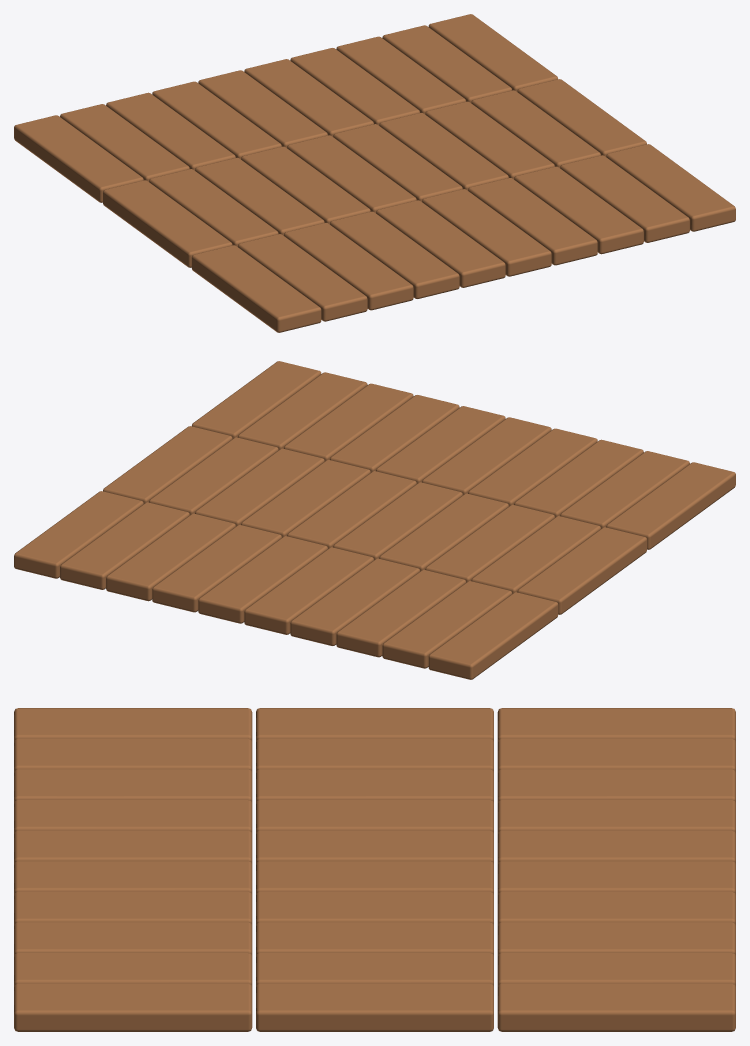
File: wp-sol-parquet.glb
3 views of the same model, one above another, from view 1: azimuth 30°, elevation 25°; view 2: azimuth 150°, elevation 25°; view 3: azimuth 270°, elevation 25° (orthographic). The views are drawn at different scales.
Parts seen in each view (by area): view 1: wp-sol-parquet; view 2: wp-sol-parquet; view 3: wp-sol-parquet.
Boxes of the visible parts, box(x1,y1,x2,y2) form: wp-sol-parquet: box(14, 14, 735, 332); wp-sol-parquet: box(14, 361, 735, 679); wp-sol-parquet: box(14, 708, 735, 1031).
Size of the model in its own units: 2.4 by 0.08 by 2.4.
